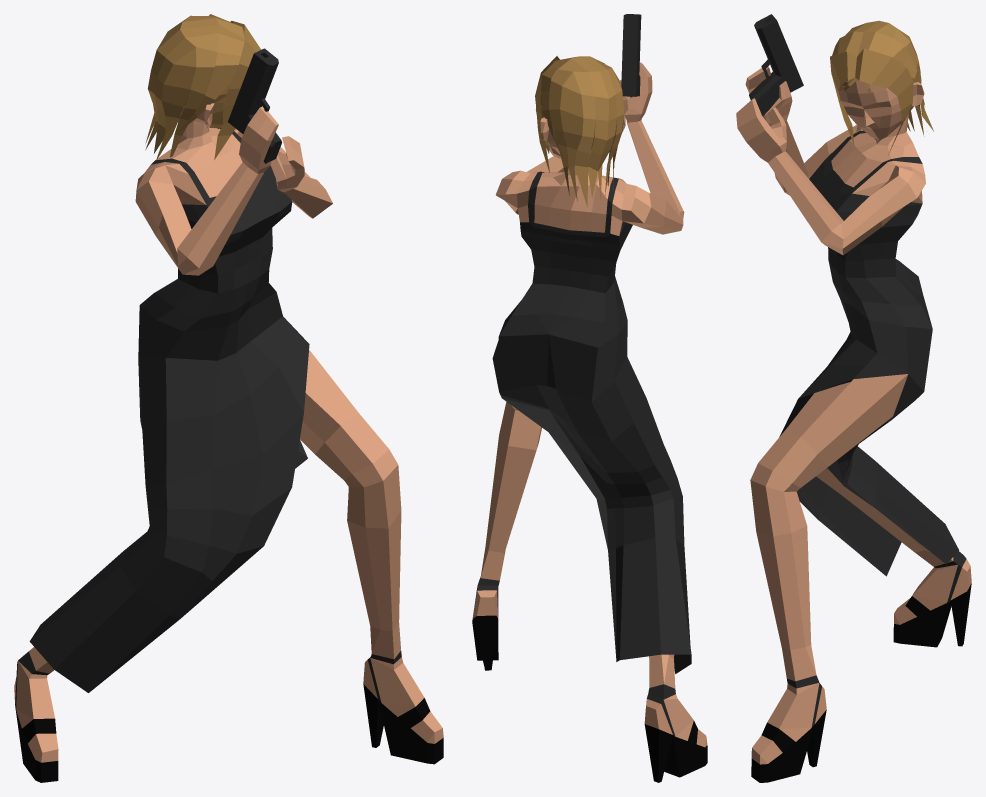
The picture shows the model from 3 angles, left to right: view 1: azimuth 30°, elevation 25°; view 2: azimuth 150°, elevation 25°; view 3: azimuth 270°, elevation 25°; orthographic projection. The views are drawn at different scales.
Parts seen in each view (by area): view 1: body, gun; view 2: body, gun; view 3: body, gun.
Boxes of the visible parts, <box> form: body: <box>14,14,443,782</box>; gun: <box>228,48,281,163</box>; body: <box>472,56,707,782</box>; gun: <box>621,14,641,97</box>; body: <box>736,20,971,782</box>; gun: <box>749,14,803,116</box>.
Size of the model in its own units: 33.42 by 72.06 by 22.41.
